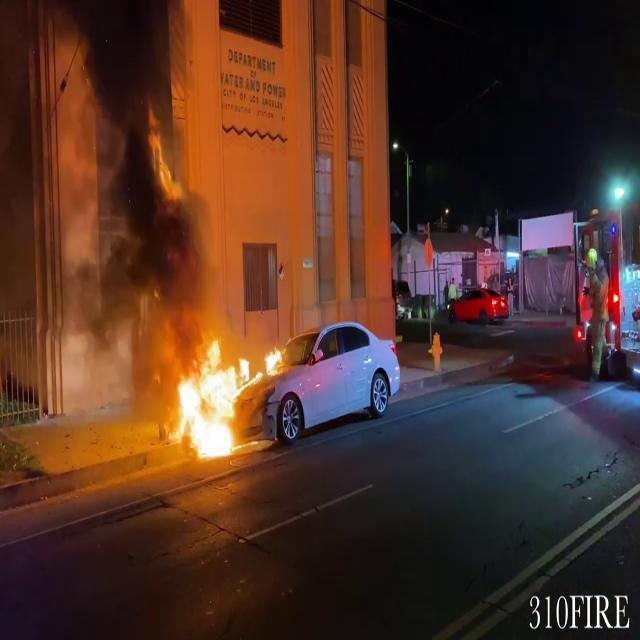Fire: (161, 317, 281, 460)
Smoke: (58, 0, 226, 358)
